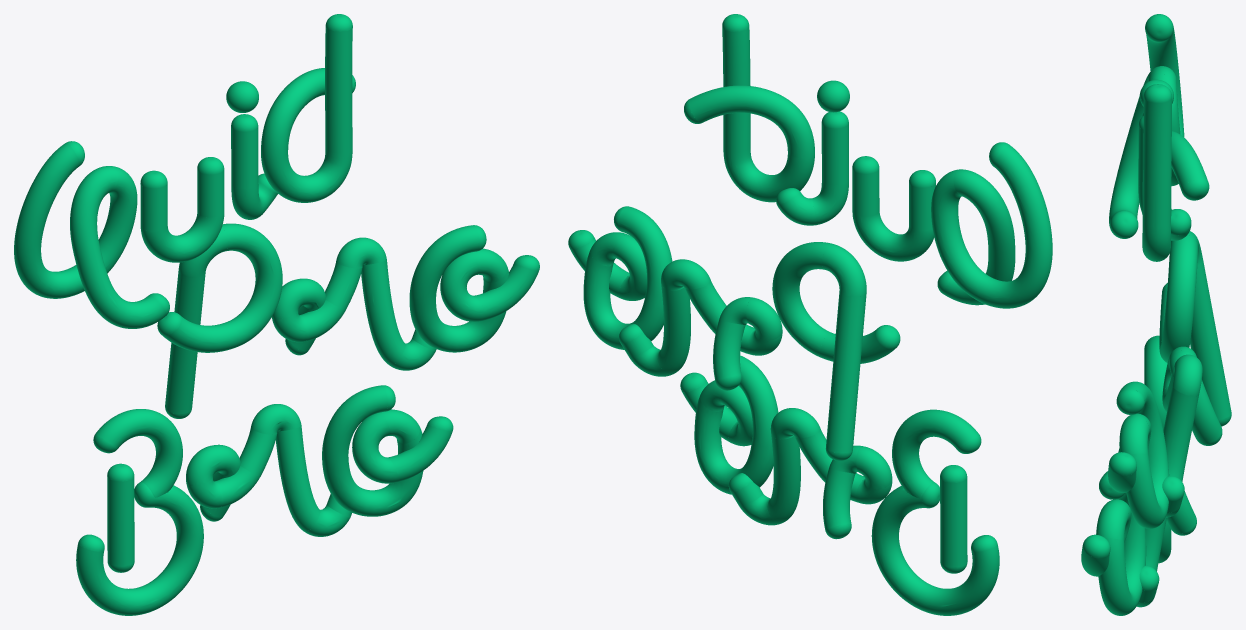
File: QuidProBro_00_MAT_Reduced.glb
The picture shows the model from 3 angles, left to right: view 1: azimuth 30°, elevation 25°; view 2: azimuth 150°, elevation 25°; view 3: azimuth 270°, elevation 25°; orthographic projection. The views are drawn at different scales.
Visible parts, largest first — view 1: QuidProBro; view 2: QuidProBro; view 3: QuidProBro.
Boxes of the visible parts, x1=… form: QuidProBro: x1=14, y1=14, x2=539, y2=615; QuidProBro: x1=568, y1=14, x2=1052, y2=615; QuidProBro: x1=1081, y1=14, x2=1231, y2=615.
Size of the model in its own units: 0.149 by 0.1558 by 0.0371.
